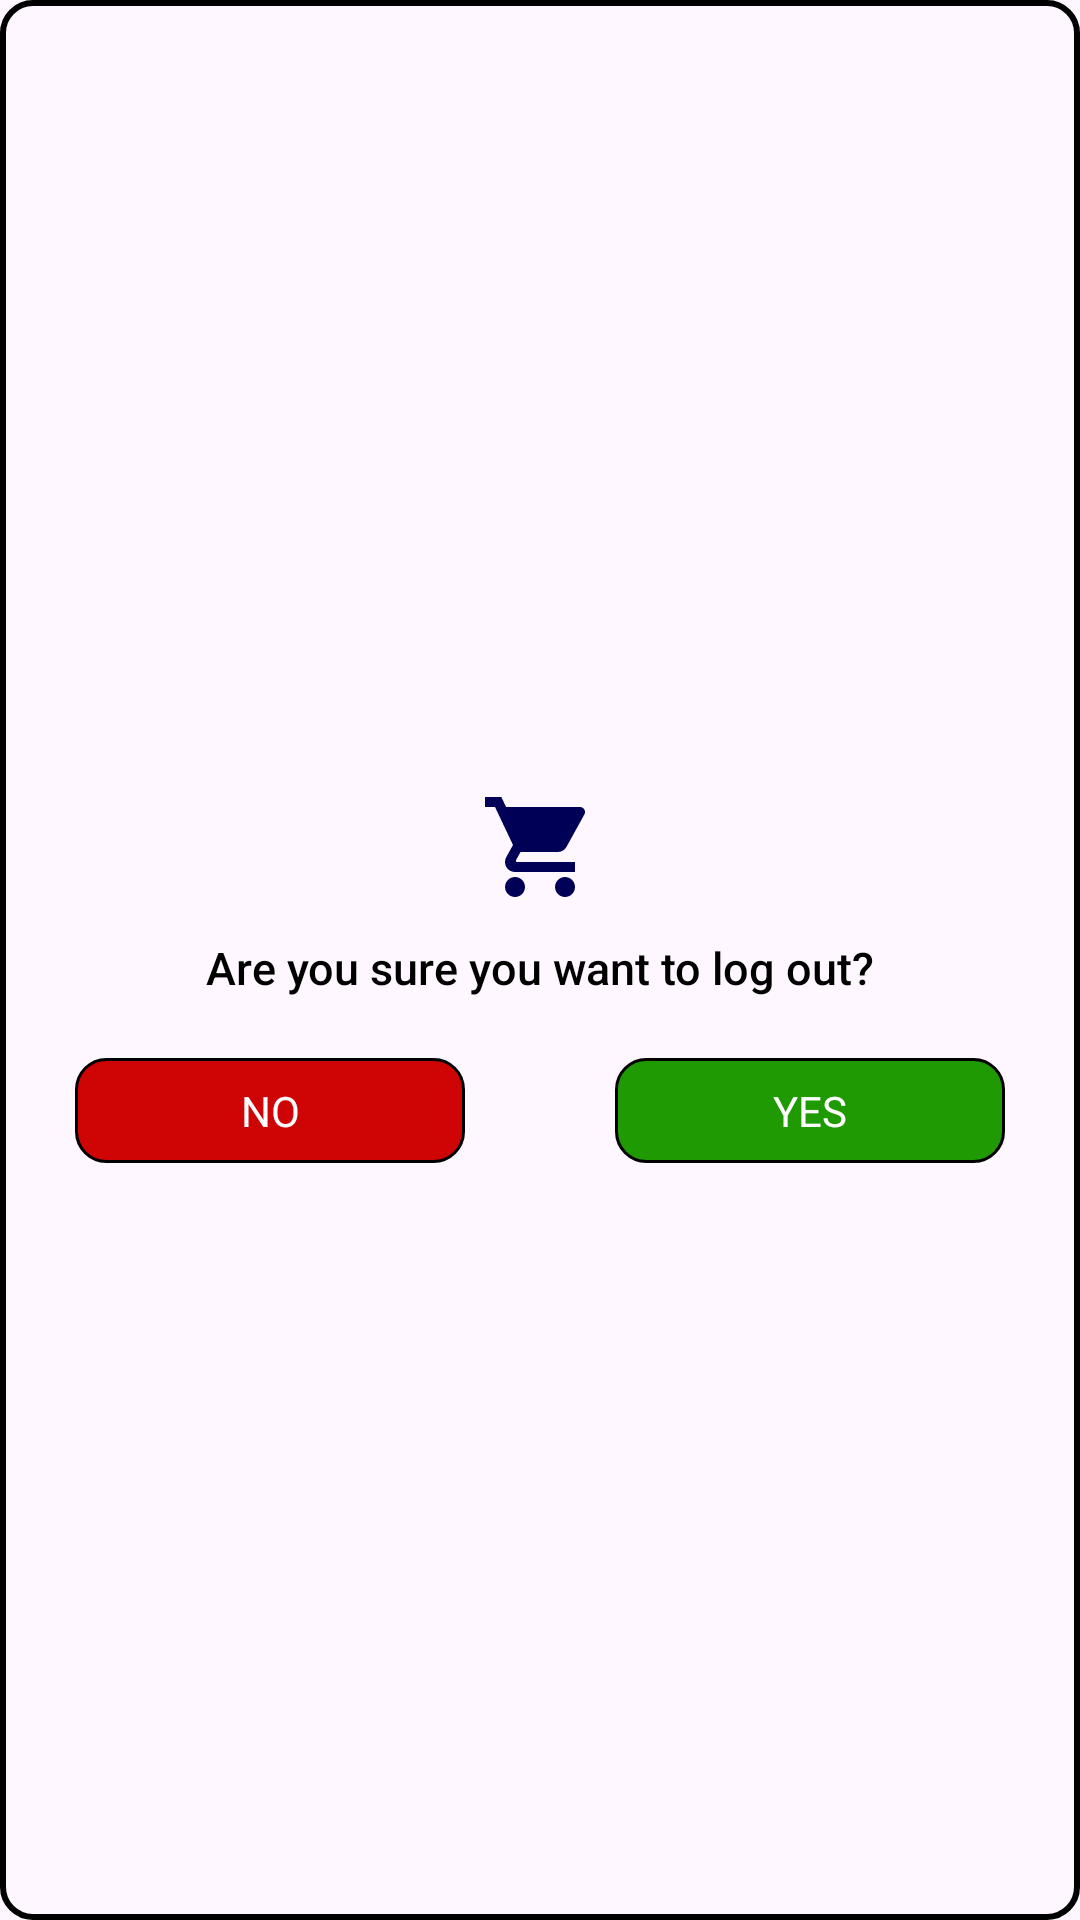

Locate icon controls on the screen. Image size 1080px x 1920px, boxes as (x1, y1, x2, y2).
cart: (485, 797, 585, 897)
